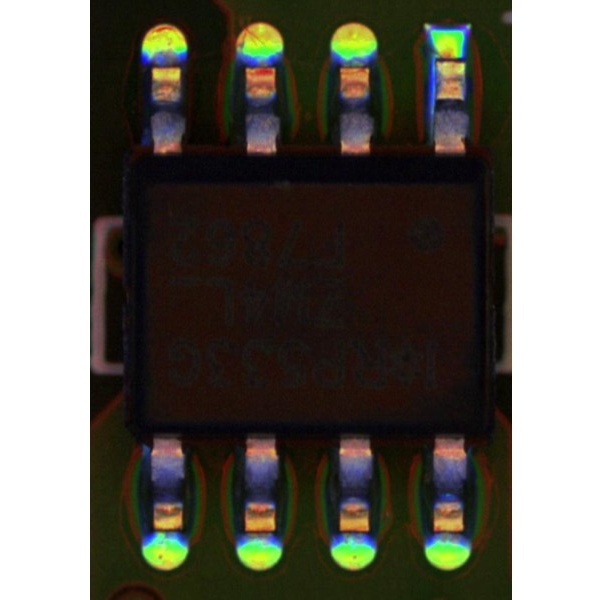Bad_podu: (440, 48, 456, 74)
